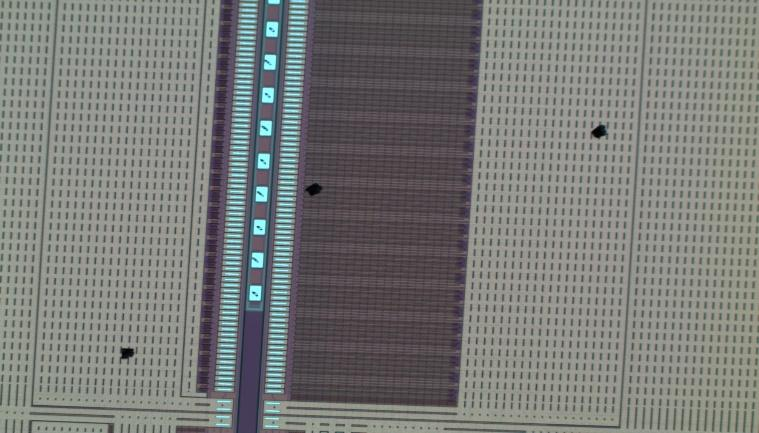PO CONTAMINATION: (115, 118, 613, 367)
